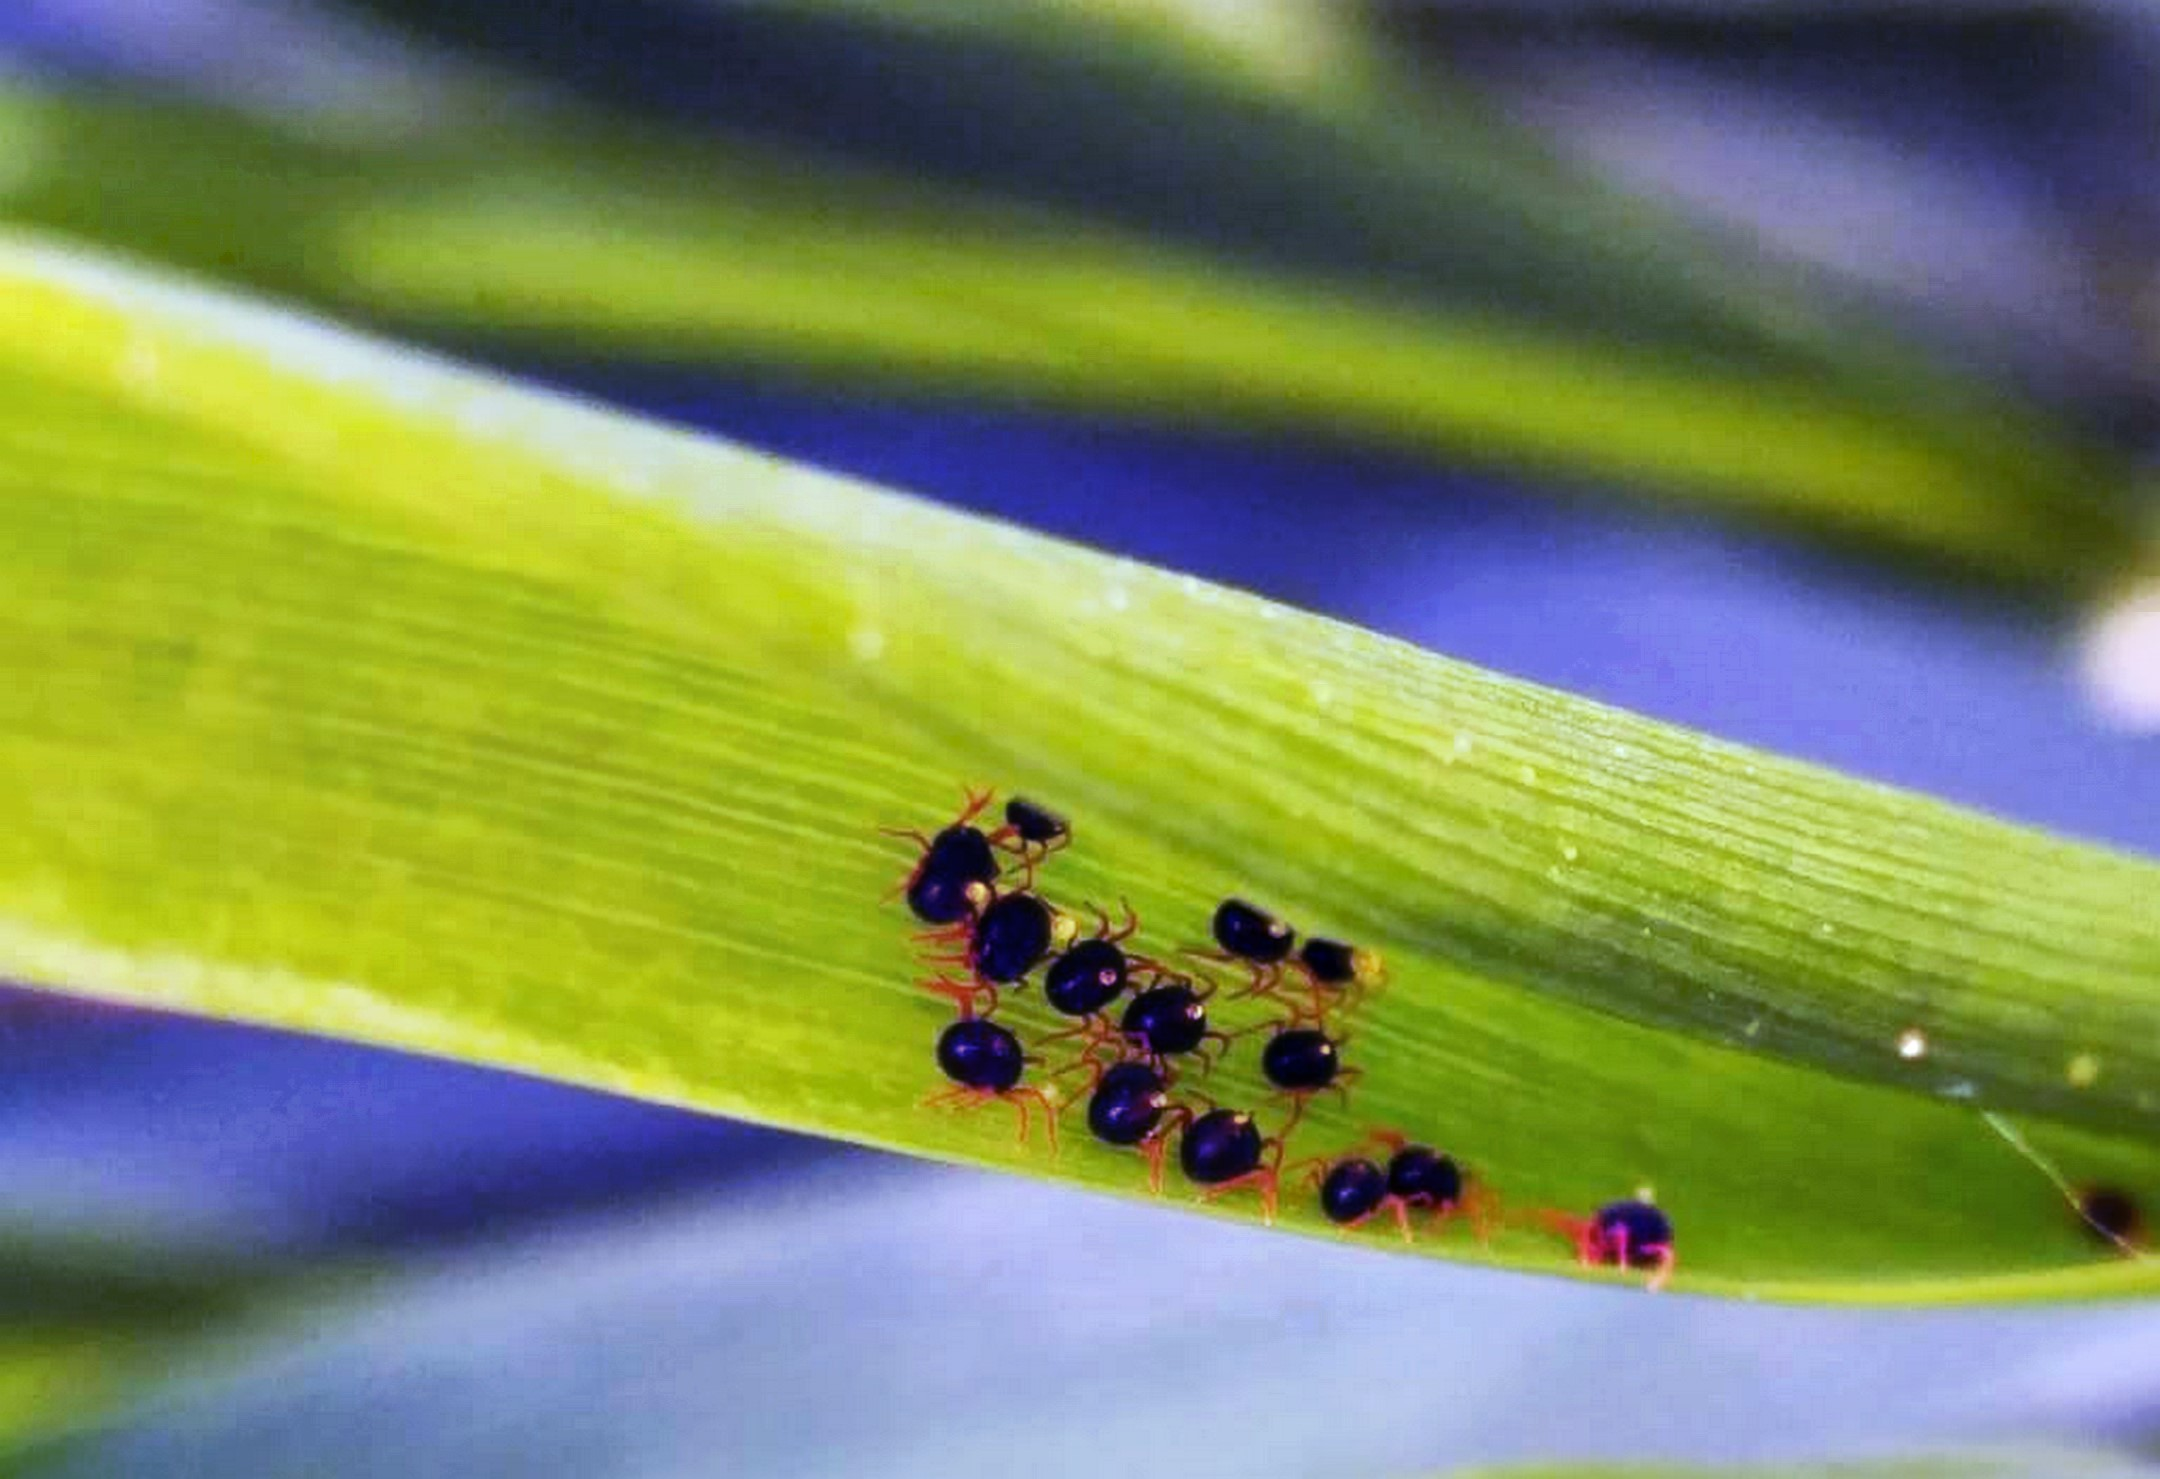Wheat Red Spider: (834, 827, 1288, 1236)
